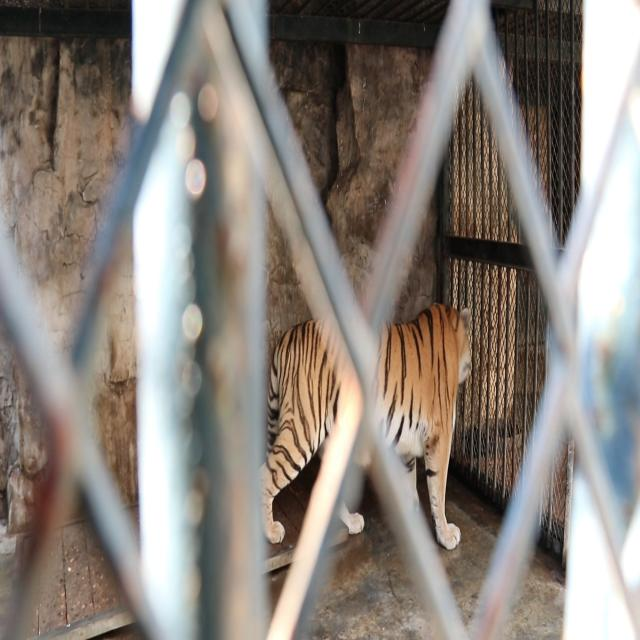Tiger: (266, 260, 482, 582)
